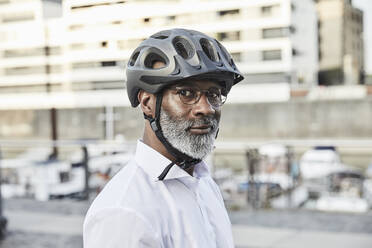helmet: (127, 28, 245, 163)
